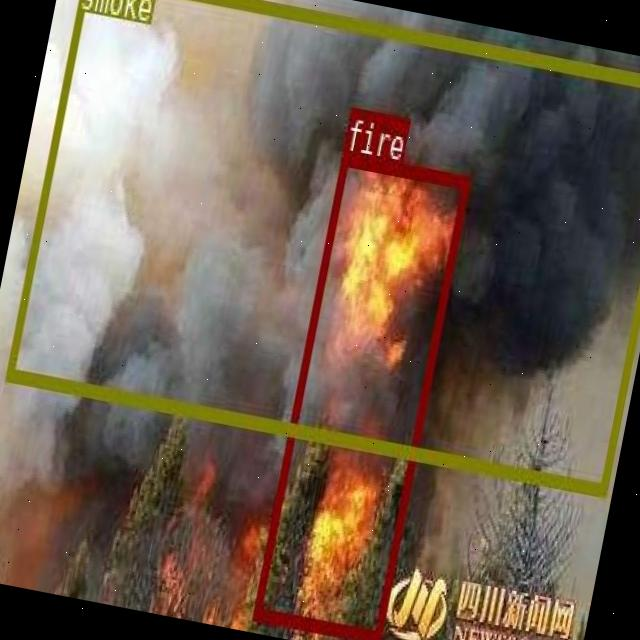fire: (252, 149, 470, 640)
smoke: (4, 0, 640, 494)
